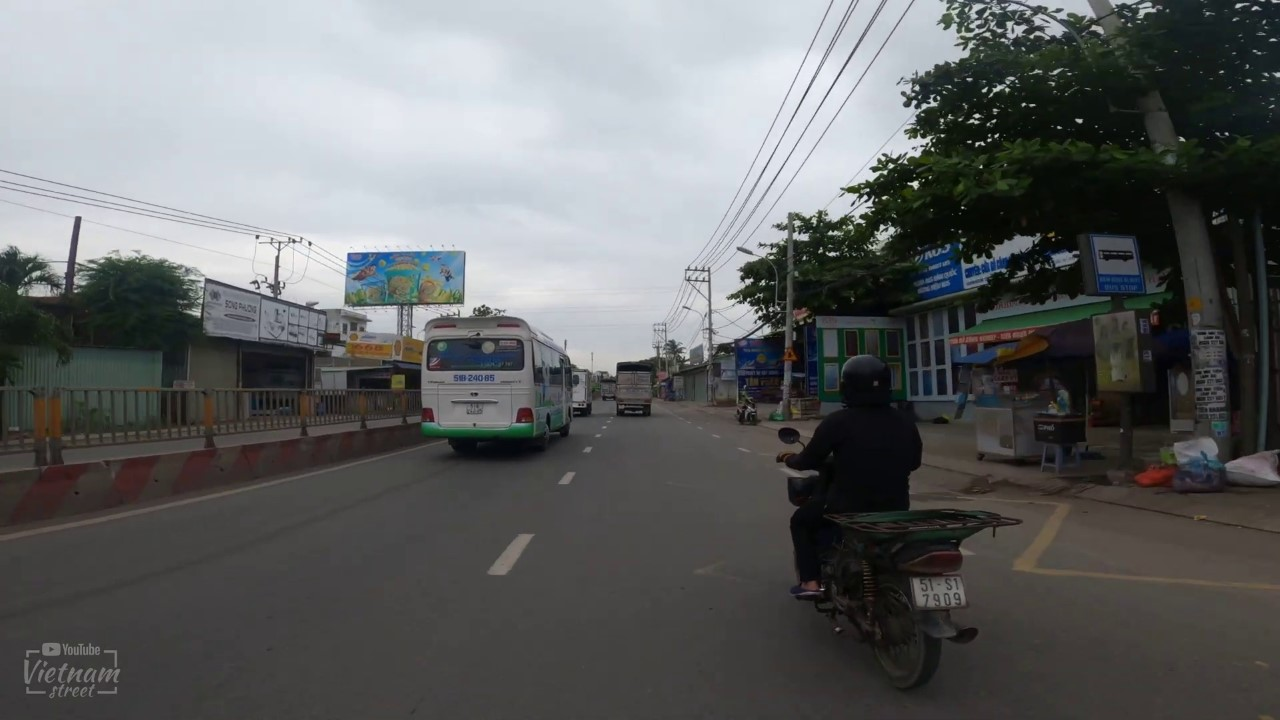giao_khong_uu_tien_phai: (781, 347, 797, 362)
